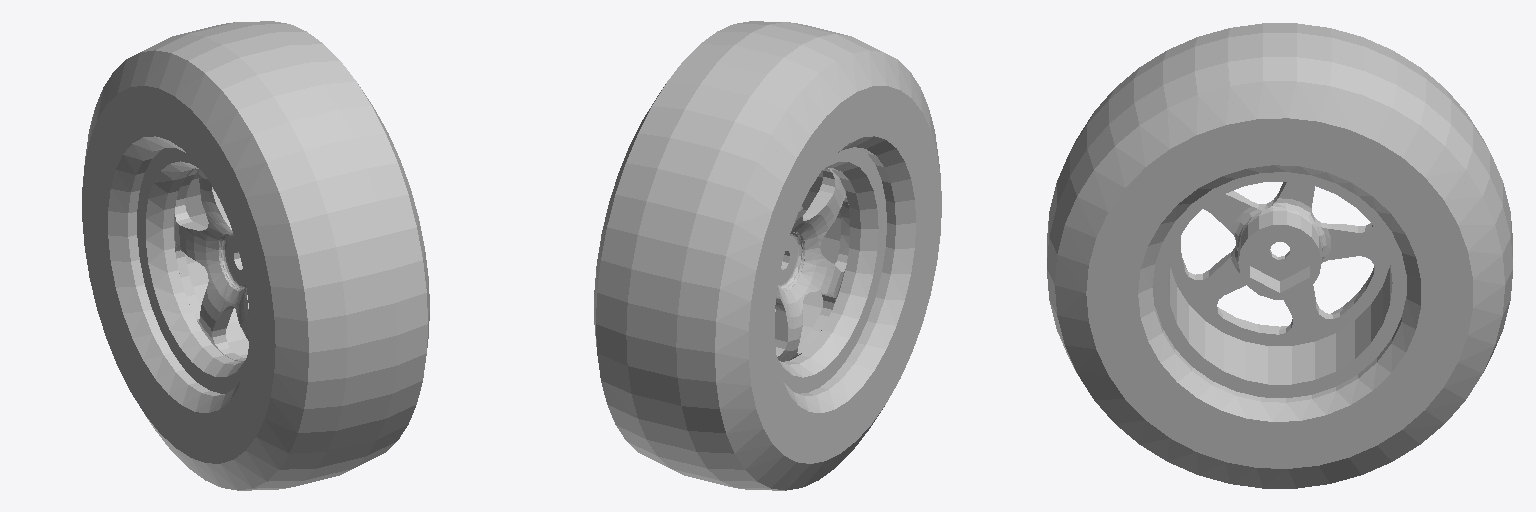
Rendered from wheel_b.obj.
3 renders of one model, left to right at view 1: azimuth 30°, elevation 25°; view 2: azimuth 150°, elevation 25°; view 3: azimuth 270°, elevation 25°, orthographic.
Parts seen in each view (by area): view 1: Wheel_(used_on_production_RbXL)_v5; view 2: Wheel_(used_on_production_RbXL)_v5; view 3: Wheel_(used_on_production_RbXL)_v5.
Part boxes in pixels (x1,y1,x2,y2): Wheel_(used_on_production_RbXL)_v5: (82,21,429,490); Wheel_(used_on_production_RbXL)_v5: (594,21,941,490); Wheel_(used_on_production_RbXL)_v5: (1047,23,1512,488).
Size of the model in its own units: 0.0363 by 0.0947 by 0.0949.